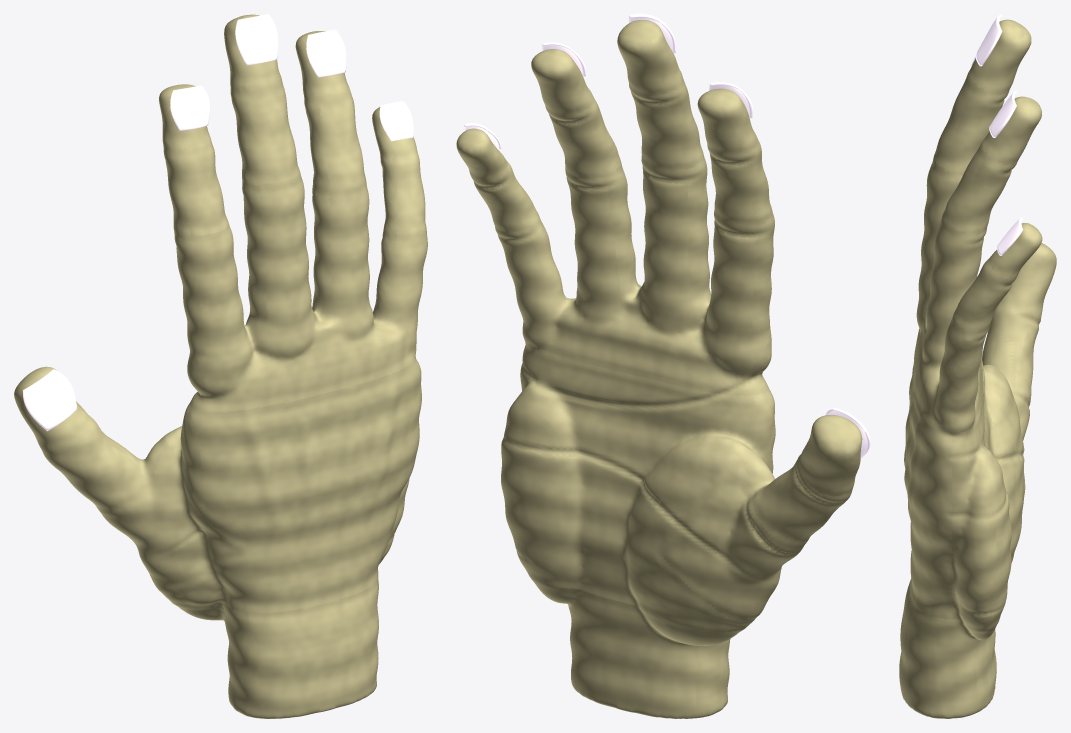
Rendered from family-10.glb.
3 views of the same model, side by side, from view 1: azimuth 30°, elevation 25°; view 2: azimuth 150°, elevation 25°; view 3: azimuth 270°, elevation 25° (orthographic). The views are drawn at different scales.
Visible parts, largest first — view 1: knuckles__knuckles_sculpt, back_of_hand__back_of_hand_sculpt, middle_sections__middle_sections_sculpt, wrist__wrist_sculpt, fingertips__fingertips_sculpt, palm__palm_sculpt, nails__thumb_claw, nails__middle_claw, nails__ring_claw, nails__index_claw, nails__pinky_claw; view 2: knuckles__knuckles_sculpt, palm__palm_sculpt, middle_sections__middle_sections_sculpt, wrist__wrist_sculpt, fingertips__fingertips_sculpt; view 3: palm__palm_sculpt, knuckles__knuckles_sculpt, middle_sections__middle_sections_sculpt, wrist__wrist_sculpt, back_of_hand__back_of_hand_sculpt, fingertips__fingertips_sculpt, nails__middle_claw, nails__ring_claw, nails__pinky_claw.
Part boxes in pixels (x1=…): knuckles__knuckles_sculpt: x1=101, y1=173, x2=427, y2=595; back_of_hand__back_of_hand_sculpt: x1=184, y1=356, x2=421, y2=613; middle_sections__middle_sections_sculpt: x1=42, y1=78, x2=426, y2=513; wrist__wrist_sculpt: x1=174, y1=560, x2=382, y2=718; fingertips__fingertips_sculpt: x1=14, y1=14, x2=417, y2=452; palm__palm_sculpt: x1=163, y1=402, x2=409, y2=606; nails__thumb_claw: x1=23, y1=369, x2=77, y2=431; nails__middle_claw: x1=235, y1=14, x2=278, y2=65; nails__ring_claw: x1=306, y1=29, x2=346, y2=77; nails__index_claw: x1=170, y1=85, x2=210, y2=130; nails__pinky_claw: x1=379, y1=101, x2=413, y2=141; knuckles__knuckles_sculpt: x1=495, y1=154, x2=804, y2=622; palm__palm_sculpt: x1=501, y1=341, x2=772, y2=632; middle_sections__middle_sections_sculpt: x1=471, y1=74, x2=853, y2=548; wrist__wrist_sculpt: x1=531, y1=578, x2=743, y2=718; fingertips__fingertips_sculpt: x1=456, y1=20, x2=862, y2=496; palm__palm_sculpt: x1=950, y1=359, x2=1023, y2=631; knuckles__knuckles_sculpt: x1=912, y1=156, x2=1031, y2=500; middle_sections__middle_sections_sculpt: x1=934, y1=71, x2=1041, y2=392; wrist__wrist_sculpt: x1=899, y1=579, x2=997, y2=718; back_of_hand__back_of_hand_sculpt: x1=904, y1=370, x2=952, y2=619; fingertips__fingertips_sculpt: x1=969, y1=19, x2=1056, y2=315; nails__middle_claw: x1=975, y1=14, x2=1002, y2=66; nails__ring_claw: x1=989, y1=90, x2=1016, y2=137; nails__pinky_claw: x1=997, y1=217, x2=1023, y2=255.
Bounding box in the file's own units: 0.1313 × 0.2172 × 0.0472.
2 materials, 1 textured.
